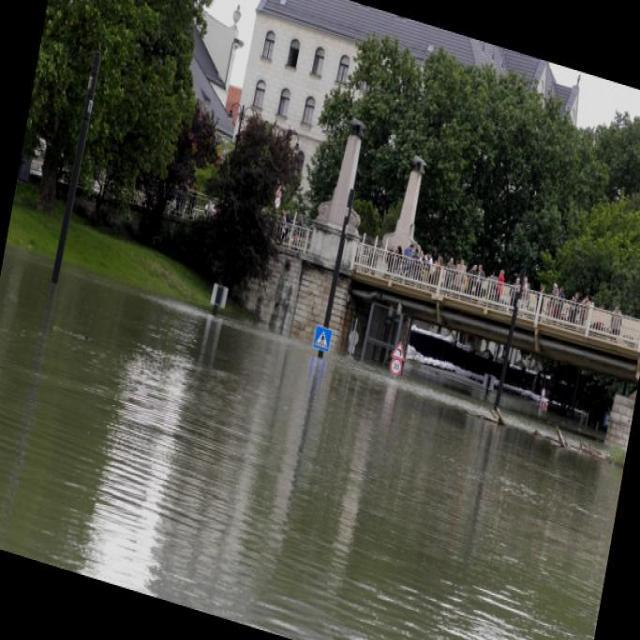flood: (0, 224, 633, 639)
